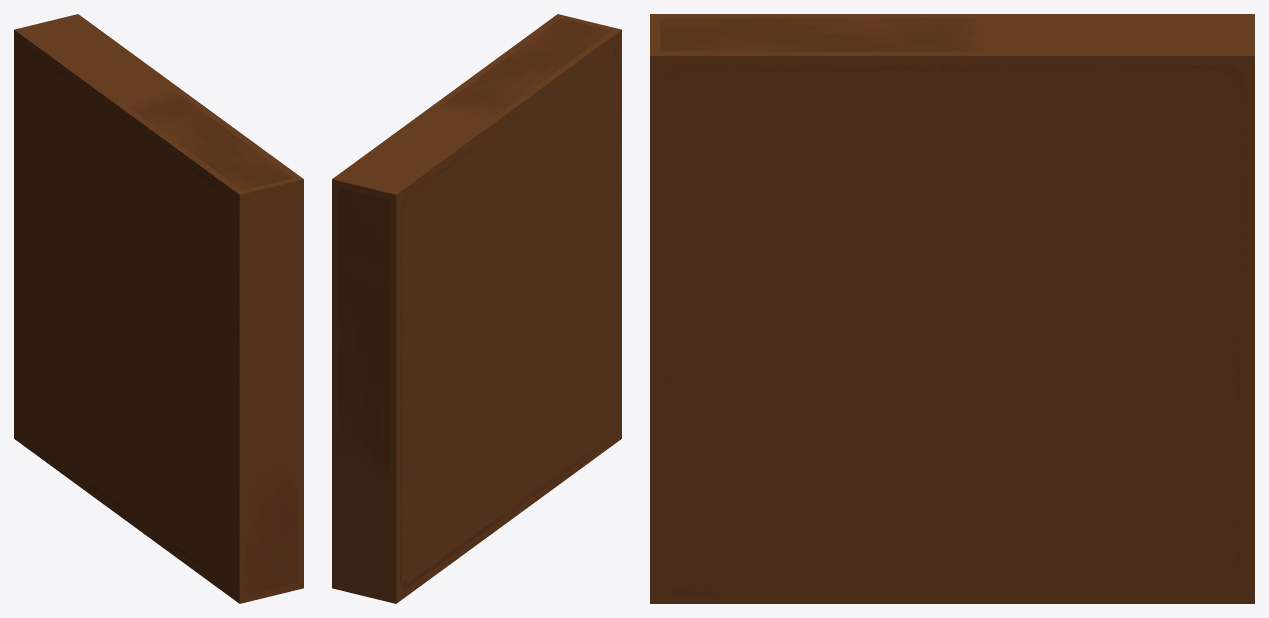
File: Window02_light.fbx
The picture shows the model from 3 angles, left to right: view 1: azimuth 30°, elevation 25°; view 2: azimuth 150°, elevation 25°; view 3: azimuth 270°, elevation 25°; orthographic projection. The views are drawn at different scales.
Visible parts, largest first — view 1: Cube#2, window#2; view 2: Cube#2, window#2; view 3: Cube#2, window#2.
Part boxes in pixels (x1,y1,x2,y2): Cube#2: [14, 14, 303, 603]; window#2: [17, 43, 297, 595]; Cube#2: [332, 14, 621, 603]; window#2: [338, 18, 618, 589]; Cube#2: [650, 14, 1254, 603]; window#2: [660, 18, 1244, 594].
Bounding box in the file's own units: 0.3283 × 2 × 2.
Materials: 2 (2 with a texture image).
